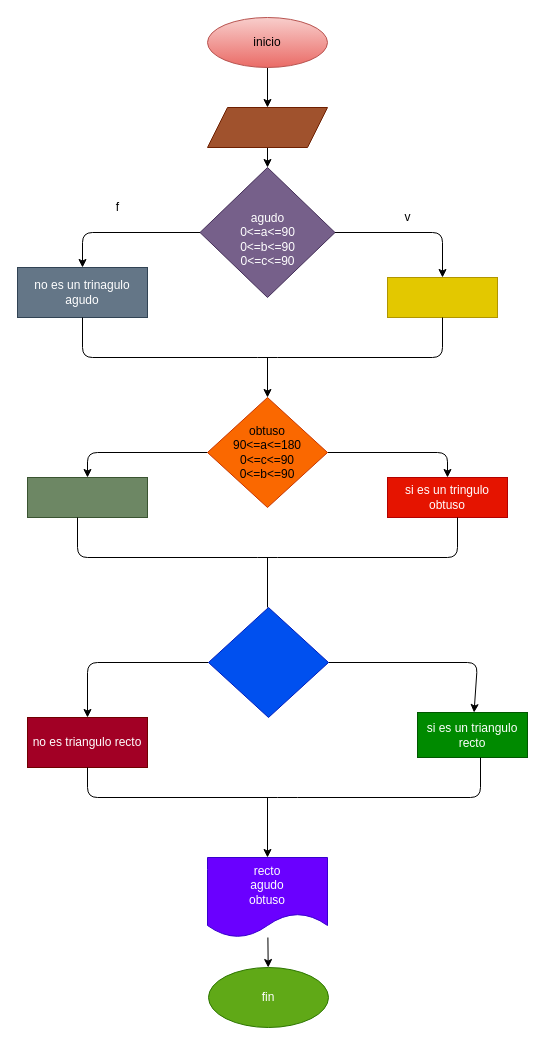
The diagram is 545 pixels wide and 1045 high, and some of its shapes have lost their labels. The shapes that lost their labels are listed below. From the top down, each one's centre as x and y in pixels, then its label:
At (x=267, y=127): "angulos".
At (x=442, y=297): "es un triangulo agudo".
At (x=87, y=497): "no es un triangulo obtuso".
At (x=268, y=662): "recto a==90 b==90 c==90".
